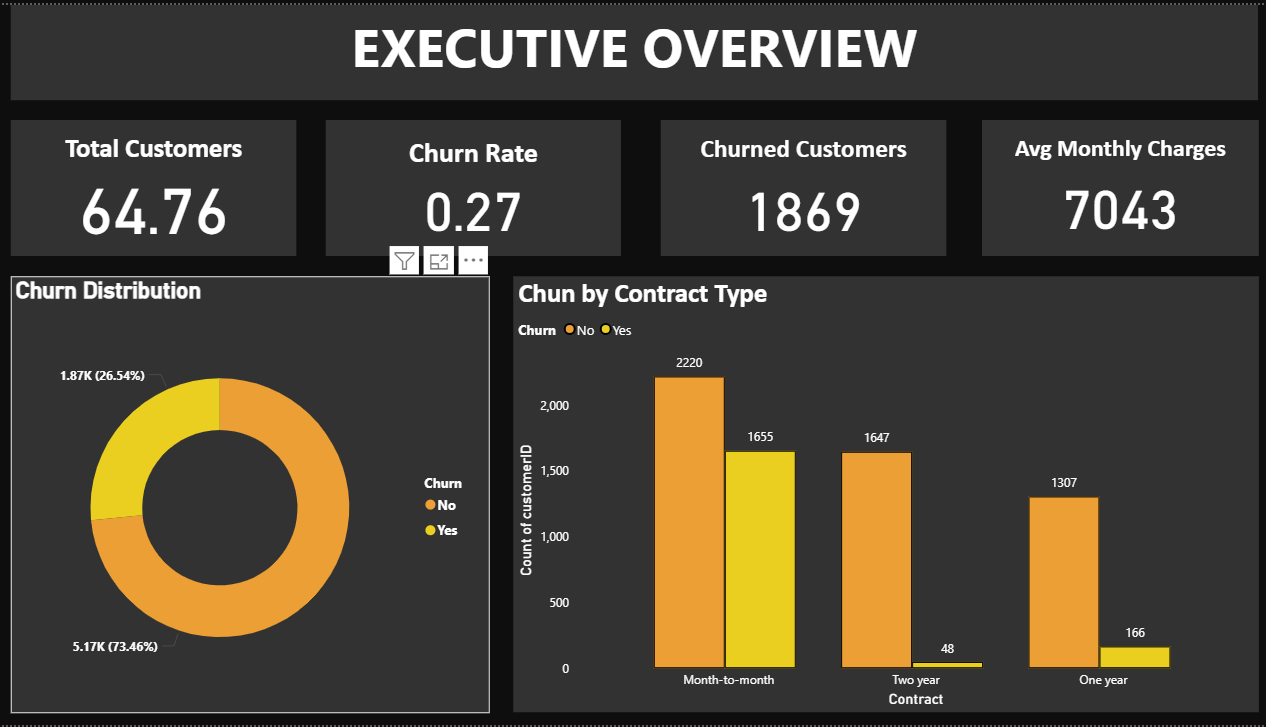

What the dashboard file says about the page in this screenshot:
{"tool":"powerbi","page":{"name":"Page 1","canvas":[1280,720],"ordinal":0},"visuals":[{"type":"textbox","box":[14.1,0,1247.4,94.9],"z":0},{"type":"card","title":"Total Customers","fields":{"Values":["Customer Churn.Avg Monthly Charges"]},"box":[14.3,115.5,285.7,135.7],"z":1000},{"type":"card","title":"Churn Rate","fields":{"Values":["Customer Churn.Churn Rate %"]},"box":[328.6,115.5,295.2,135.7],"z":2000},{"type":"card","title":"Avg Monthly Charges","fields":{"Values":["Customer Churn.Total Customers"]},"box":[984.6,115.4,276.9,135.9],"z":3000},{"type":"card","title":"Churned Customers","fields":{"Values":["Customer Churn.Churned Customers"]},"box":[664.1,115.4,285.9,135.9],"z":4000},{"type":"clusteredColumnChart","title":"Chun by Contract Type","fields":{"Category":["Customer Churn.Contract"],"Y":["CountNonNull(Customer Churn.customerID)"],"Series":["Customer Churn.Churn"]},"box":[516.7,271.4,745.2,435.7],"z":5000},{"type":"donutChart","title":"Churn Distribution","fields":{"Category":["Customer Churn.Churn"],"Y":["CountNonNull(Customer Churn.customerID)"]},"box":[14.3,271.4,478.6,436.9],"z":6000}]}

Visuals, with their boxes in screenshot pixels (x1, y1, x2, y2), scaled from the page's 1280x720 canvas onto the 1266x727 screenshot:
textbox: 14, 0, 1248, 96
"Total Customers" card: 14, 117, 297, 254
"Churn Rate" card: 325, 117, 617, 254
"Avg Monthly Charges" card: 974, 117, 1248, 254
"Churned Customers" card: 657, 117, 940, 254
"Chun by Contract Type" clusteredColumnChart: 511, 274, 1248, 714
"Churn Distribution" donutChart: 14, 274, 488, 715
